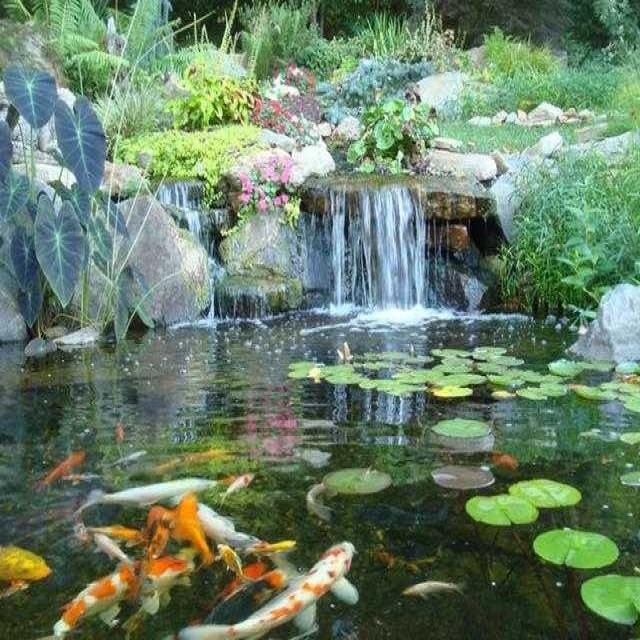Ponds: (8, 131, 639, 637)
